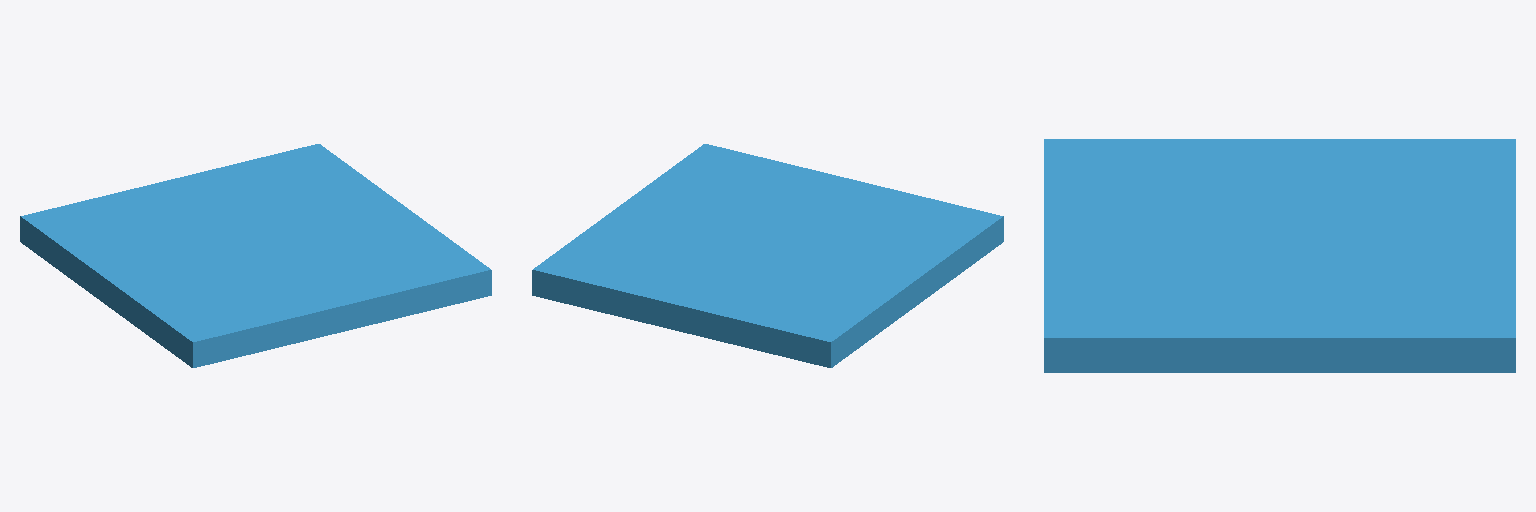
The robot description file, URDF, robot "workcell":
<?xml version="1.0" ?>
<robot name="workcell">

  <link name="world" />

  <!-- Define a table for the robot to eventually sit on -->
  <link name="table">
    <visual>
      <geometry>
        <box size="0.6 .6 .05"/>
      </geometry>
    </visual>
    <!-- Note this has "visual" and "collision"  -->
    <collision>
      <geometry>
        <box size="0.6 .6 .05"/>
      </geometry>
    </collision>
  </link>

  <joint name="world_to_table" type="fixed">
    <parent link="world"/>
    <child link="table"/>
    <origin xyz="0 0 0.5" rpy="0 0 0"/>
  </joint>

  <link name="camera_frame"/>

  <joint name="world_to_camera" type="fixed">
    <parent link="world"/>
    <child link="camera_frame"/>
    <origin xyz="0 0 1.0" rpy="0 1.571 0" />
  </joint>

</robot>

--- What the picture shows (computed from the rendered views, not written in the file) ---
3 views of the same robot in one strip: view 1: azimuth 30°, elevation 25°; view 2: azimuth 150°, elevation 25°; view 3: azimuth 270°, elevation 25° (orthographic).
Model workcell with 3 links and 2 joints (2 fixed), rooted at world, posed all joints at 0.
Links seen in each view (by area): view 1: table; view 2: table; view 3: table.
Link boxes in pixels (<box>): table: <box>20,144,491,367</box>; table: <box>532,144,1003,367</box>; table: <box>1044,139,1515,372</box>.
Bounding box of the posed robot: 0.6 × 0.6 × 0.05 m (x, y, z).
Geometry: primitives only (box / cylinder / sphere), no mesh files.